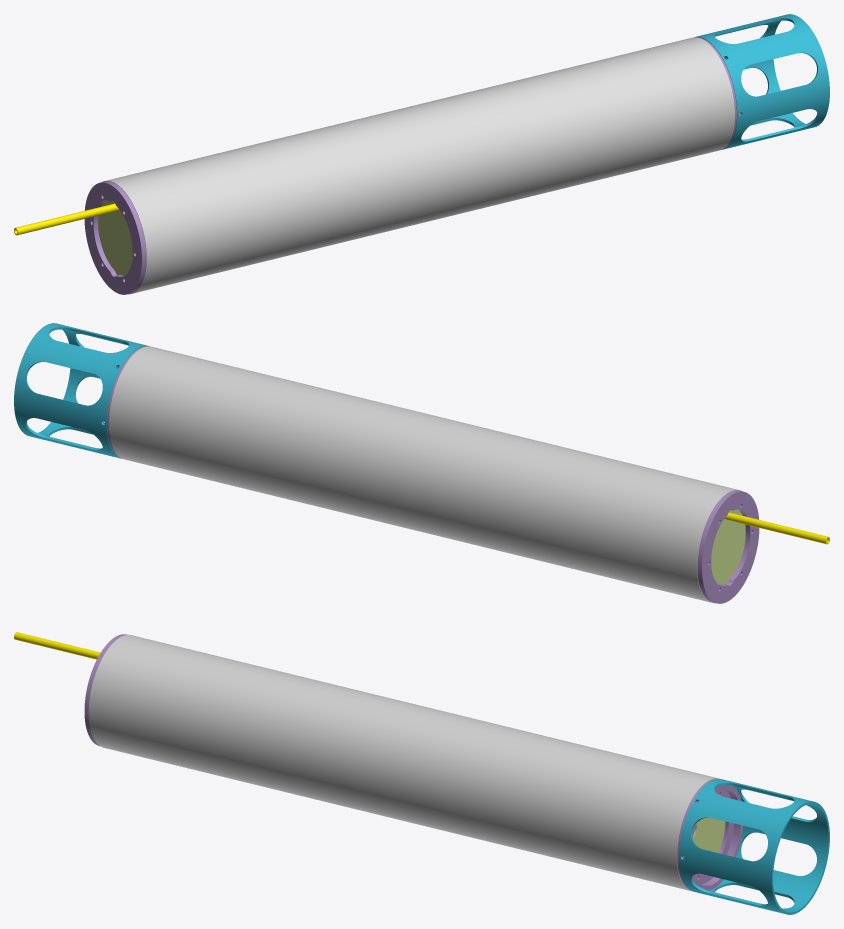
File: baby_auv_assembly.gltf
3 views of the same model, one above another, from view 1: azimuth 30°, elevation 25°; view 2: azimuth 150°, elevation 25°; view 3: azimuth 330°, elevation 25° (orthographic).
Visible parts, largest first — view 1: 186f9b76-5d5a-11ee-a6b9-00155d4315a7_part, 19a3163a-5d5a-11ee-a6b9-00155d4315a7_part, 188f4dcc-5d5a-11ee-a6b9-00155d4315a7_part, 1881d390-5d5a-11ee-a6b9-00155d4315a7_part, 1890573a-5d5a-11ee-a6b9-00155d4315a7_part; view 2: 186f9b76-5d5a-11ee-a6b9-00155d4315a7_part, 19a3163a-5d5a-11ee-a6b9-00155d4315a7_part, 188f4dcc-5d5a-11ee-a6b9-00155d4315a7_part, 1881d390-5d5a-11ee-a6b9-00155d4315a7_part, 1890573a-5d5a-11ee-a6b9-00155d4315a7_part; view 3: 186f9b76-5d5a-11ee-a6b9-00155d4315a7_part, 19a3163a-5d5a-11ee-a6b9-00155d4315a7_part, 19168b34-5d5a-11ee-a6b9-00155d4315a7_part, 18c73908-5d5a-11ee-a6b9-00155d4315a7_part, 1890573a-5d5a-11ee-a6b9-00155d4315a7_part, 188f4dcc-5d5a-11ee-a6b9-00155d4315a7_part.
Boxes of the visible parts, x1=… form: 186f9b76-5d5a-11ee-a6b9-00155d4315a7_part: x1=101, y1=37, x2=734, y2=294; 19a3163a-5d5a-11ee-a6b9-00155d4315a7_part: x1=694, y1=14, x2=829, y2=149; 188f4dcc-5d5a-11ee-a6b9-00155d4315a7_part: x1=84, y1=181, x2=146, y2=294; 1881d390-5d5a-11ee-a6b9-00155d4315a7_part: x1=98, y1=200, x2=132, y2=275; 1890573a-5d5a-11ee-a6b9-00155d4315a7_part: x1=14, y1=203, x2=119, y2=235; 186f9b76-5d5a-11ee-a6b9-00155d4315a7_part: x1=109, y1=346, x2=742, y2=603; 19a3163a-5d5a-11ee-a6b9-00155d4315a7_part: x1=14, y1=323, x2=149, y2=458; 188f4dcc-5d5a-11ee-a6b9-00155d4315a7_part: x1=697, y1=490, x2=759, y2=603; 1881d390-5d5a-11ee-a6b9-00155d4315a7_part: x1=711, y1=509, x2=745, y2=584; 1890573a-5d5a-11ee-a6b9-00155d4315a7_part: x1=724, y1=512, x2=829, y2=544; 186f9b76-5d5a-11ee-a6b9-00155d4315a7_part: x1=88, y1=634, x2=719, y2=891; 19a3163a-5d5a-11ee-a6b9-00155d4315a7_part: x1=679, y1=779, x2=829, y2=914; 19168b34-5d5a-11ee-a6b9-00155d4315a7_part: x1=677, y1=779, x2=742, y2=890; 18c73908-5d5a-11ee-a6b9-00155d4315a7_part: x1=693, y1=817, x2=725, y2=852; 1890573a-5d5a-11ee-a6b9-00155d4315a7_part: x1=14, y1=632, x2=100, y2=659; 188f4dcc-5d5a-11ee-a6b9-00155d4315a7_part: x1=84, y1=634, x2=126, y2=746.
Bounding box in the file's own units: 694 × 88.9 × 88.9.
